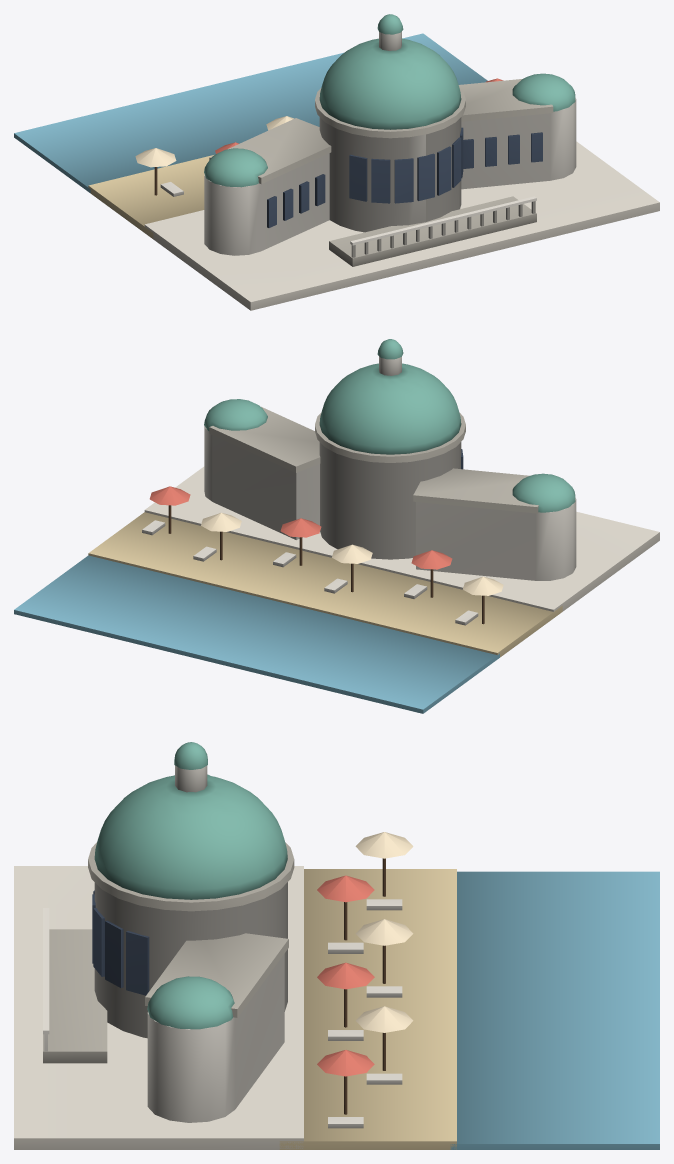
Rendered from eforie.glb.
3 views of the same model, one above another, from view 1: azimuth 30°, elevation 25°; view 2: azimuth 150°, elevation 25°; view 3: azimuth 270°, elevation 25° (orthographic). The views are drawn at different scales.
Parts seen in each view (by area): view 1: eforie_plaster, eforie_stoneLight, eforie_water, eforie_copper, eforie_stoneGray, eforie_window, eforie_sand, eforie_canvas; view 2: eforie_water, eforie_plaster, eforie_sand, eforie_copper, eforie_stoneLight, eforie_stoneGray, eforie_red, eforie_canvas, eforie_wood; view 3: eforie_water, eforie_sand, eforie_stoneLight, eforie_plaster, eforie_copper, eforie_stoneGray, eforie_window, eforie_canvas, eforie_red, eforie_wood.
Boxes of the visible parts, x1,y1,x2,y2 form: eforie_plaster: [160, 31, 576, 257]; eforie_stoneLight: [144, 141, 659, 310]; eforie_water: [14, 33, 487, 193]; eforie_copper: [204, 14, 575, 187]; eforie_stoneGray: [209, 79, 553, 266]; eforie_window: [267, 127, 542, 227]; eforie_sand: [88, 155, 213, 238]; eforie_canvas: [135, 116, 293, 167]; eforie_water: [14, 555, 499, 713]; eforie_plaster: [142, 356, 576, 625]; eforie_sand: [88, 512, 562, 657]; eforie_copper: [204, 339, 575, 512]; eforie_stoneLight: [144, 466, 659, 611]; eforie_stoneGray: [209, 406, 538, 513]; eforie_red: [149, 486, 452, 569]; eforie_canvas: [201, 512, 503, 595]; eforie_wood: [168, 505, 484, 624]; eforie_water: [450, 871, 659, 1149]; eforie_sand: [279, 869, 456, 1149]; eforie_stoneLight: [14, 866, 303, 1149]; eforie_plaster: [43, 765, 402, 1128]; eforie_copper: [94, 742, 287, 1029]; eforie_stoneGray: [43, 842, 294, 1063]; eforie_window: [92, 890, 149, 995]; eforie_canvas: [355, 832, 413, 1032]; eforie_red: [317, 875, 374, 1076]; eforie_wood: [344, 858, 385, 1114].
Size of the model in its own units: 2 by 0.926 by 2.
